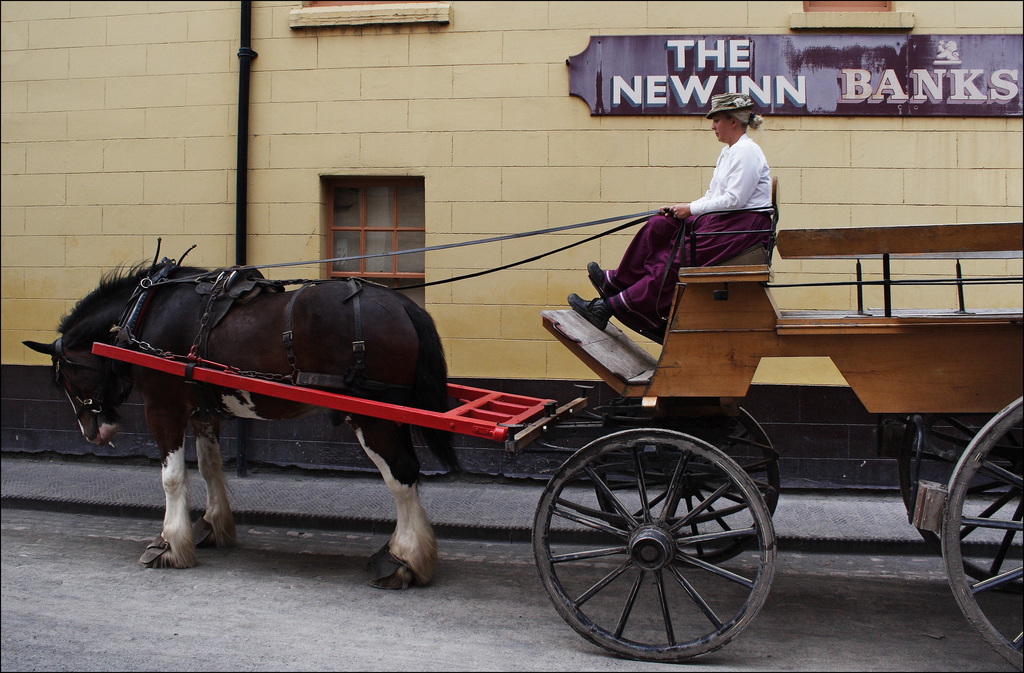Person: (567, 95, 771, 344)
